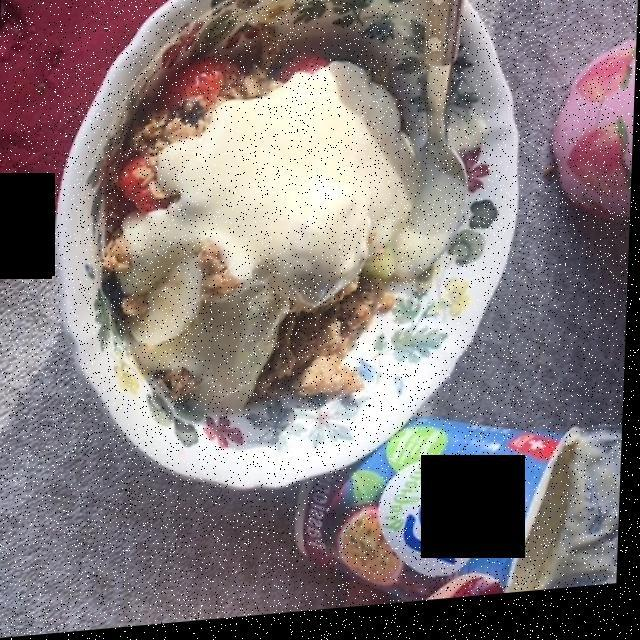banana: (132, 271, 208, 378)
crunch-muesli: (123, 56, 387, 418)
strawberries: (121, 49, 348, 215)
